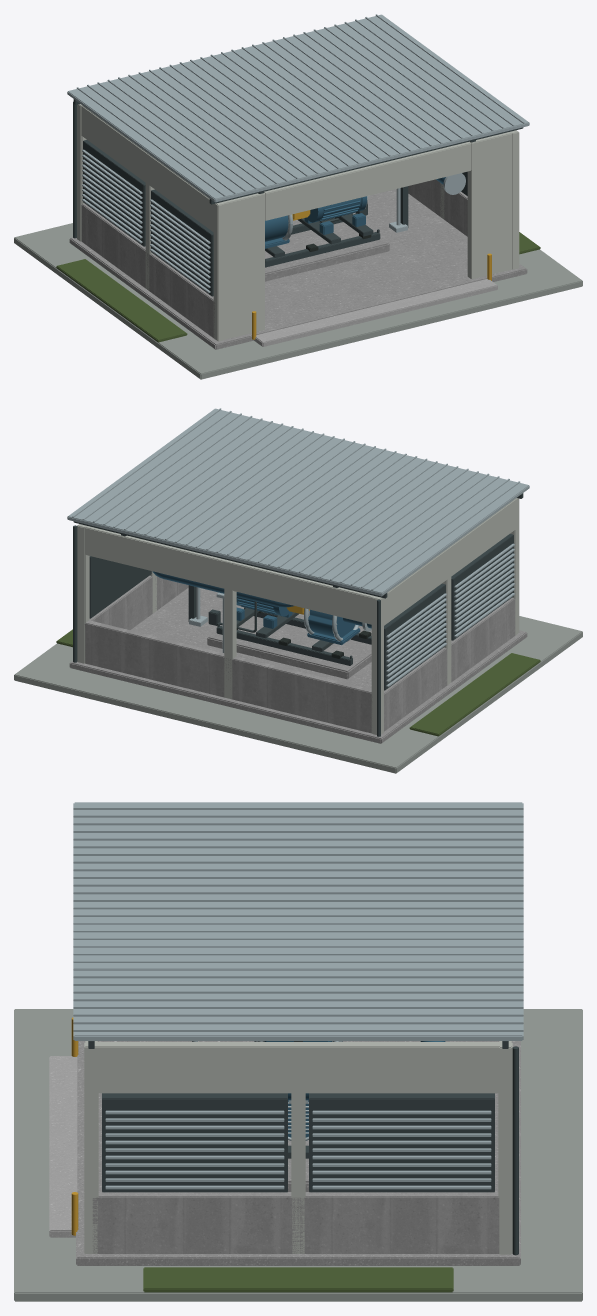
Rendered from pump-unit.glb.
3 renders of one model, top to bottom at view 1: azimuth 30°, elevation 25°; view 2: azimuth 150°, elevation 25°; view 3: azimuth 270°, elevation 25°, orthographic. The views are drawn at different scales.
Parts seen in each view (by area): view 1: BUILDING_RoofSkin, BUILDING_BaseSlab, SITE_Hardscape, BUILDING_RoofRibs, BUILDING_FrontPiers, BUILDING_SideSill, BUILDING_EntranceLintel, BUILDING_LouverSlats, BUILDING_LouverFrame, BUILDING_SideHeader, BUILDING_SidePiers, SITE_GreenStrip (+8 smaller); view 2: BUILDING_RoofSkin, SITE_Hardscape, BUILDING_RoofRibs, BUILDING_RearSill, BUILDING_RearHeader, BUILDING_BaseSlab, BUILDING_SideSill, BUILDING_LouverFrame, BUILDING_LouverSlats, BUILDING_SideHeader, MECH_ConcreteFoundation, SITE_GreenStrip (+8 smaller); view 3: BUILDING_RoofSkin, BUILDING_RoofRibs, SITE_Hardscape, BUILDING_LouverFrame, BUILDING_SideSill, BUILDING_SideHeader, BUILDING_LouverSlats, BUILDING_BaseSlab, SITE_GreenStrip, BUILDING_SidePiers, ACCESS_EntranceApron, BUILDING_RearColumns (+1 smaller).
Boxes of the visible parts, <box> form: BUILDING_RoofSkin: <box>67,14,529,202</box>; BUILDING_BaseSlab: <box>69,189,527,349</box>; SITE_Hardscape: <box>14,223,582,379</box>; BUILDING_RoofRibs: <box>76,14,524,196</box>; BUILDING_FrontPiers: <box>221,131,512,339</box>; BUILDING_SideSill: <box>81,179,467,337</box>; BUILDING_EntranceLintel: <box>264,142,471,220</box>; BUILDING_LouverSlats: <box>82,149,210,293</box>; BUILDING_LouverFrame: <box>83,140,467,296</box>; BUILDING_SideHeader: <box>81,105,215,232</box>; BUILDING_SidePiers: <box>81,130,519,341</box>; SITE_GreenStrip: <box>56,232,540,342</box>; BUILDING_RoofSkin: <box>67,408,529,596</box>; SITE_Hardscape: <box>14,616,582,773</box>; BUILDING_RoofRibs: <box>72,408,520,590</box>; BUILDING_RearSill: <box>84,620,372,733</box>; BUILDING_RearHeader: <box>84,526,373,624</box>; BUILDING_BaseSlab: <box>69,588,527,743</box>; BUILDING_SideSill: <box>89,575,515,731</box>; BUILDING_LouverFrame: <box>89,534,513,690</box>; BUILDING_LouverSlats: <box>386,543,514,687</box>; BUILDING_SideHeader: <box>384,498,516,625</box>; MECH_ConcreteFoundation: <box>207,616,371,679</box>; SITE_GreenStrip: <box>56,629,540,736</box>; BUILDING_RoofSkin: <box>73,802,523,1040</box>; BUILDING_RoofRibs: <box>73,807,523,1031</box>; SITE_Hardscape: <box>14,1009,582,1301</box>; BUILDING_LouverFrame: <box>102,1093,494,1192</box>; BUILDING_SideSill: <box>92,1192,499,1253</box>; BUILDING_SideHeader: <box>92,1042,502,1093</box>; BUILDING_LouverSlats: <box>105,1110,491,1189</box>; BUILDING_BaseSlab: <box>76,1041,520,1265</box>; SITE_GreenStrip: <box>143,1267,453,1292</box>; BUILDING_SidePiers: <box>84,1042,512,1253</box>; ACCESS_EntranceApron: <box>49,1056,77,1237</box>; BUILDING_RearColumns: <box>499,1041,511,1254</box>.
Bounding box in the file's own units: 13 × 5.18 × 11.
Materials: 11 (3 with a texture image).
